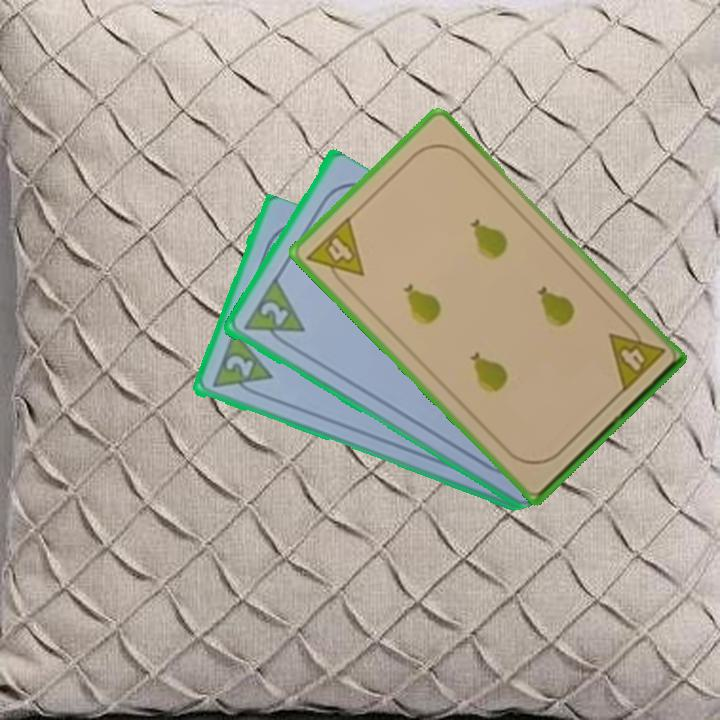2p: (238, 276, 307, 353), (221, 351, 256, 380)
4p: (303, 212, 367, 293), (604, 317, 668, 396)
